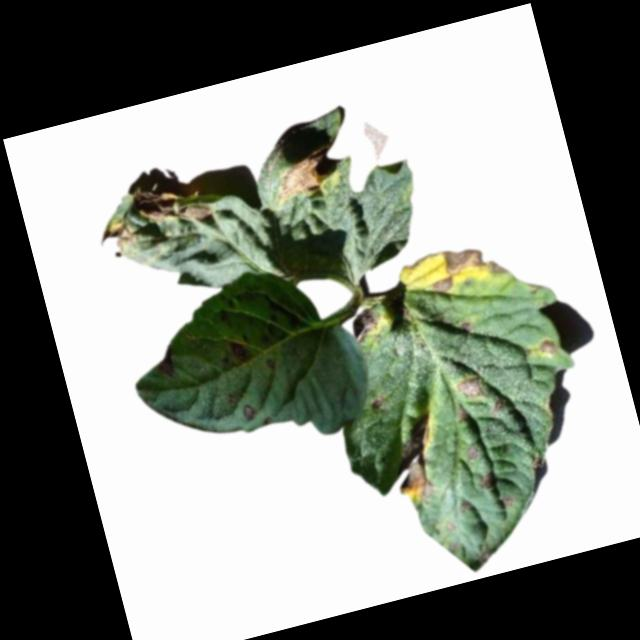Early_blight: (423, 234, 512, 301), (128, 172, 214, 236), (269, 146, 338, 204), (94, 212, 143, 261), (346, 303, 387, 343), (457, 374, 487, 399), (494, 490, 521, 510), (536, 335, 561, 356), (473, 468, 497, 489), (236, 398, 256, 421), (456, 496, 474, 515), (458, 317, 476, 333), (455, 403, 469, 423), (490, 395, 506, 411), (465, 441, 479, 458), (370, 394, 383, 410)
